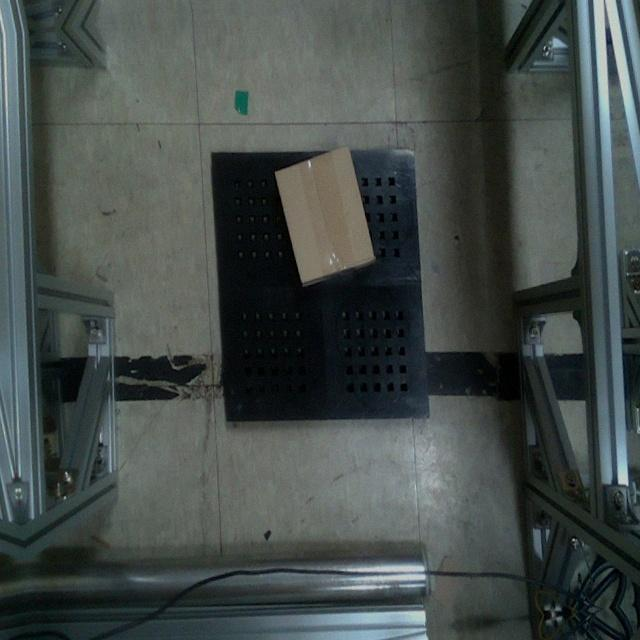box: (265, 141, 383, 291)
pallet: (209, 142, 436, 430)
